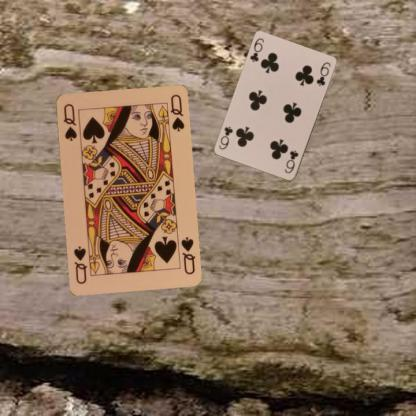6c: (282, 148, 300, 175), (247, 36, 265, 63)
Qs: (178, 234, 196, 276), (60, 101, 78, 142)
